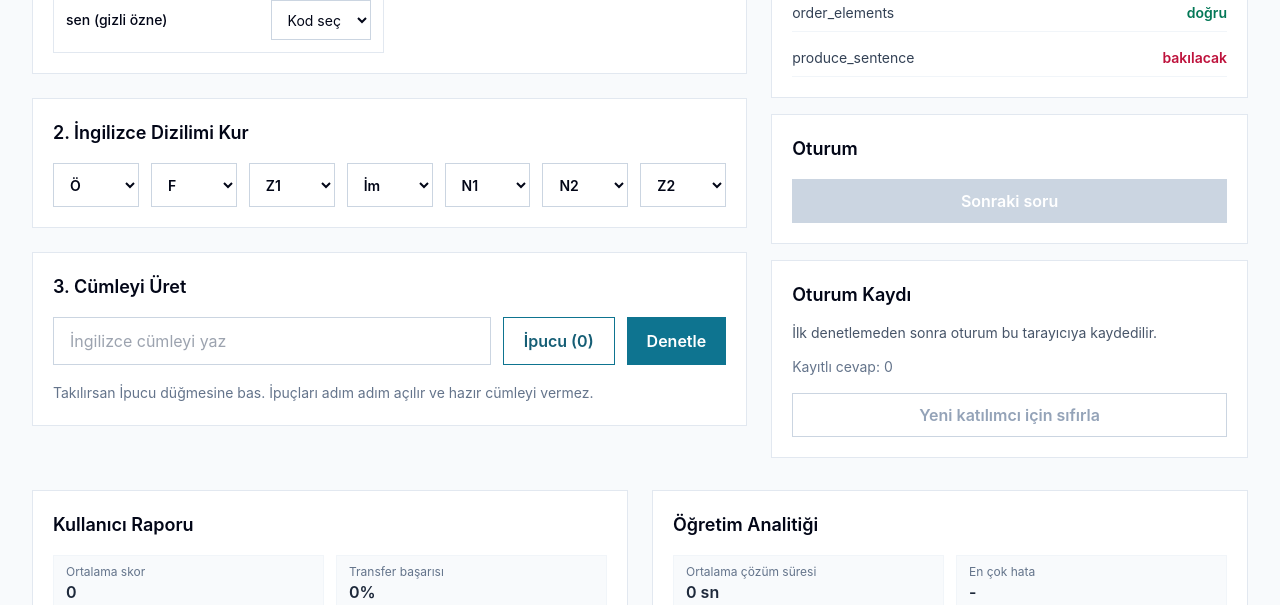
Test case: LessonClient › reveals progressive hints and counts every request
(page scrolled)
Check: the text "İpuçları adım adım açılır" is shown, box [53,384,594,401]
Check: the text "1. İpucu" is not shown
What coordinates should you click on to do the following:
click the button "İpucu (0)"
I would click on:
 (559, 341)
Its box is [503,317,615,365].
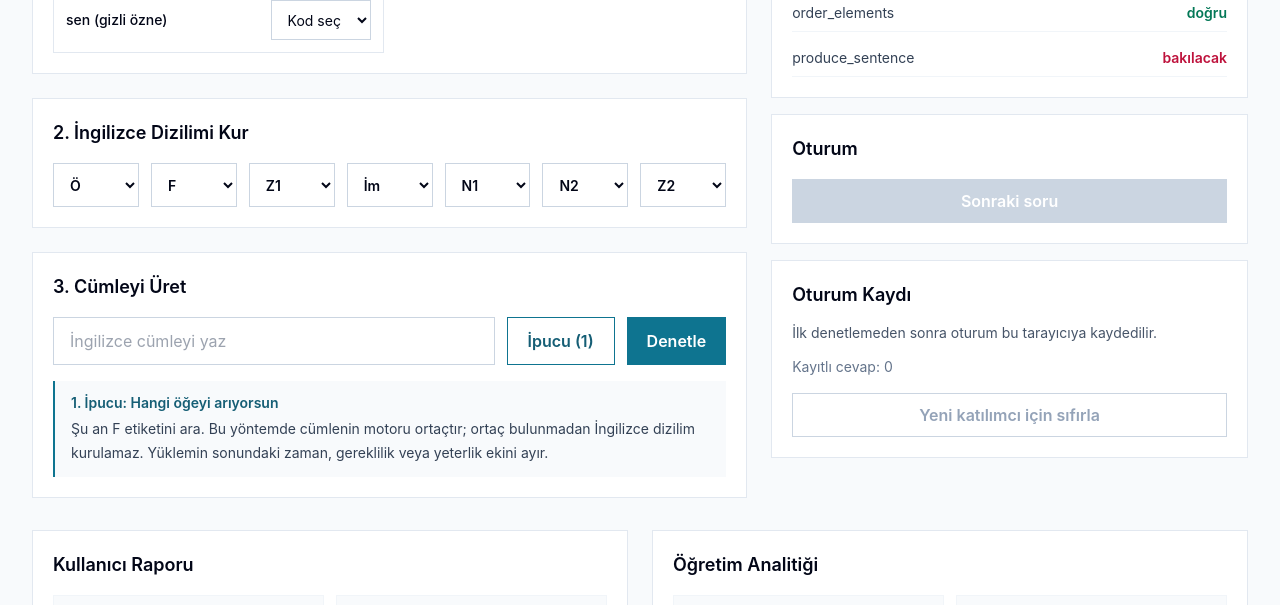
Check: the text "2. İpucu" is not shown
Check: the text "1. İpucu: Hangi öğeyi arıyorsun" is shown, box [71,394,278,411]
Check: the button "İpucu (1)" is shown
What coordinates should you click on to do the following:
click the button "İpucu (1)"
I would click on:
 (561, 341)
Its box is [506,317,615,365].
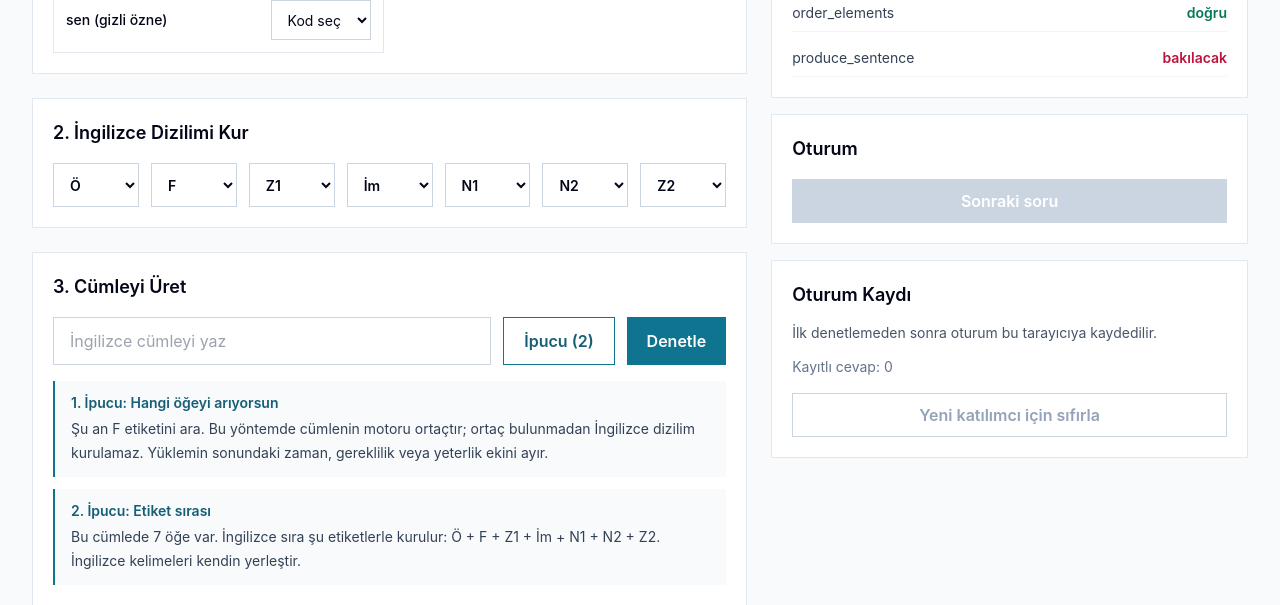
Check: the text "3. İpucu" is not shown
Check: the text "2. İpucu: Etiket sırası" is shown, box [71,502,211,519]
What coordinates should you click on to do the following:
click the button "İpucu (2)"
I would click on:
 (559, 341)
Its box is [503,317,615,365].
(page scrolled)
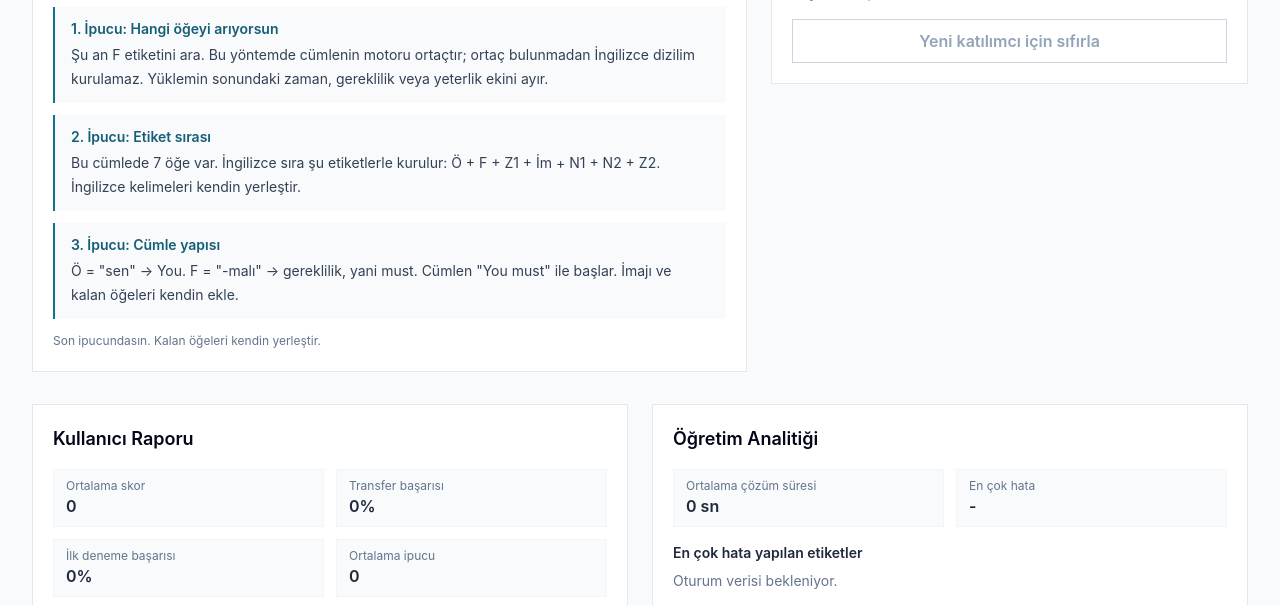
Check: the text "3. İpucu: Cümle yapısı" is shown, box [71,236,220,253]
Check: the text "Son ipucundasın. Kalan öğeleri kendin yerleştir." is shown, box [53,333,321,348]
